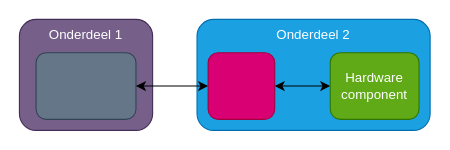
The diagram is 450 pixels wide and 150 high, and some of its shapes have lost their labels. Each missing label, with the centre of its shape:
"Interne netwerk" belongs at pixel 85 85.
"Slimme module" belongs at pixel 241 85.
